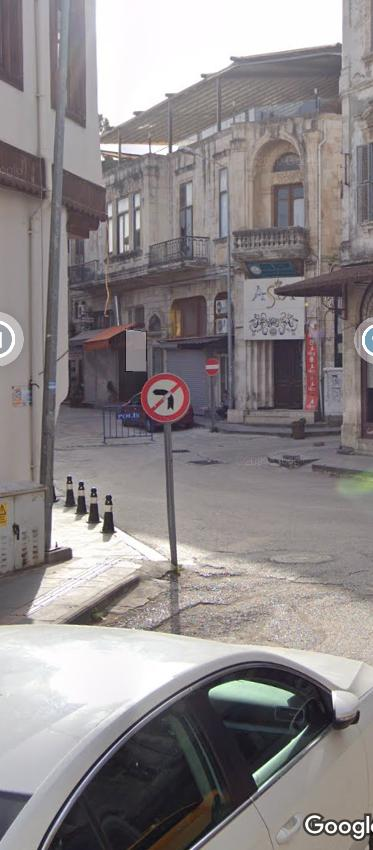leftturnsareforbidden: (142, 373, 191, 422)
